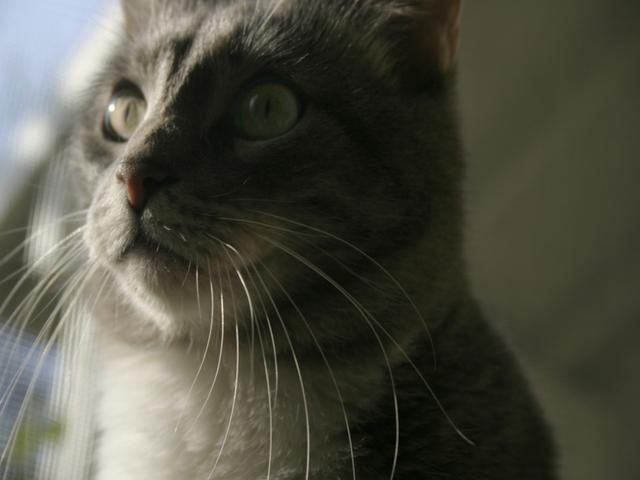cat: (33, 8, 523, 402)
